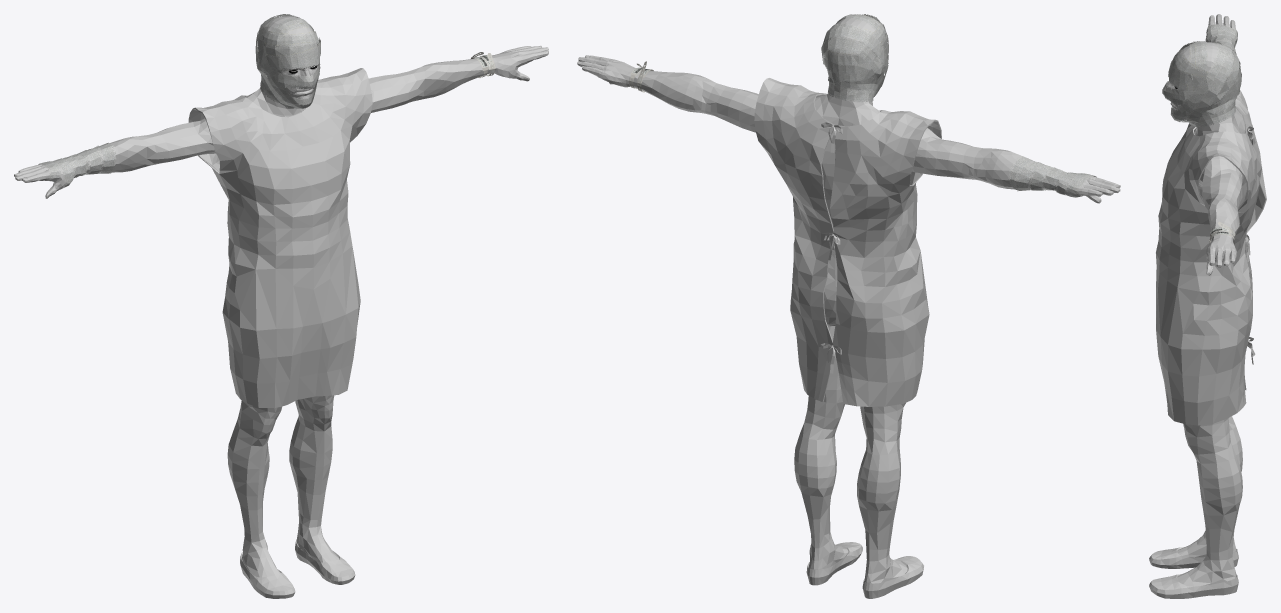
The model's file is MGS5 ishmael.obj.
The picture shows the model from 3 angles, left to right: view 1: azimuth 30°, elevation 25°; view 2: azimuth 150°, elevation 25°; view 3: azimuth 270°, elevation 25°; orthographic projection. The views are drawn at different scales.
Visible parts, largest first — view 1: Mesh_0289_Tex_2653_0_, Mesh_0249_Tex_2694_0_, Mesh_0231_Tex_0787_0_, Mesh_0309_Tex_3242_0_; view 2: Mesh_0289_Tex_2653_0_, Mesh_0249_Tex_2694_0_, Mesh_0231_Tex_0787_0_; view 3: Mesh_0289_Tex_2653_0_, Mesh_0249_Tex_2694_0_, Mesh_0231_Tex_0787_0_, Mesh_0309_Tex_3242_0_, Mesh_0057_Tex_0094_0_, Mesh_0242_Tex_2653_0_.
Part boxes in pixels (x1,y1,x2,y2): Mesh_0289_Tex_2653_0_: (188,68,372,598); Mesh_0249_Tex_2694_0_: (14,45,548,577); Mesh_0231_Tex_0787_0_: (38,14,320,187); Mesh_0309_Tex_3242_0_: (265,16,318,99); Mesh_0289_Tex_2653_0_: (754,78,941,598); Mesh_0249_Tex_2694_0_: (577,55,1120,583); Mesh_0231_Tex_0787_0_: (821,14,1096,197); Mesh_0289_Tex_2653_0_: (1149,90,1266,598); Mesh_0249_Tex_2694_0_: (1177,14,1246,586); Mesh_0231_Tex_0787_0_: (1162,24,1241,127); Mesh_0309_Tex_3242_0_: (1166,42,1238,110); Mesh_0057_Tex_0094_0_: (1209,221,1235,243); Mesh_0242_Tex_2653_0_: (1247,126,1255,364).
Size of the model in its own units: 1.83 by 1.82 by 0.3642.
